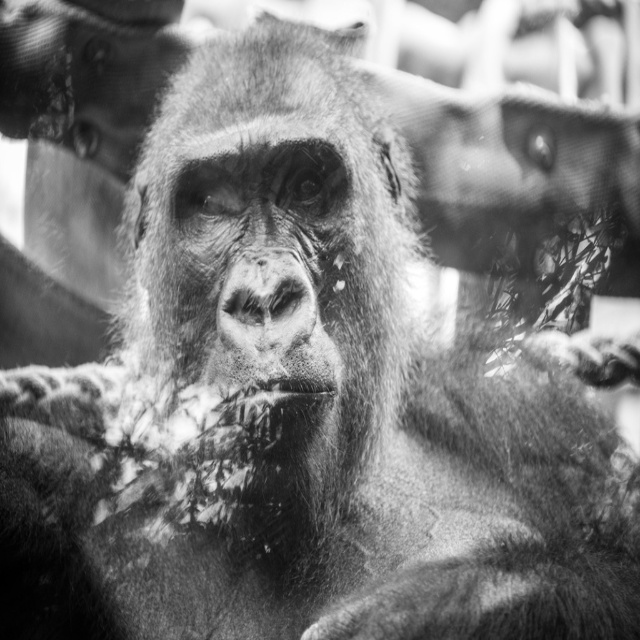Monkey: (0, 16, 640, 639)
